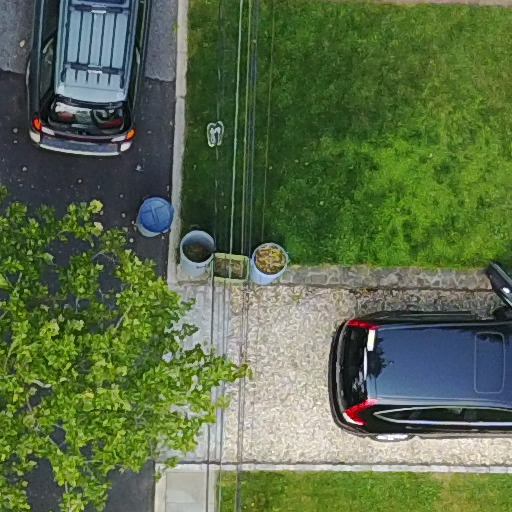trash bin: (243, 236, 298, 300), (171, 223, 220, 291), (128, 185, 181, 247)
